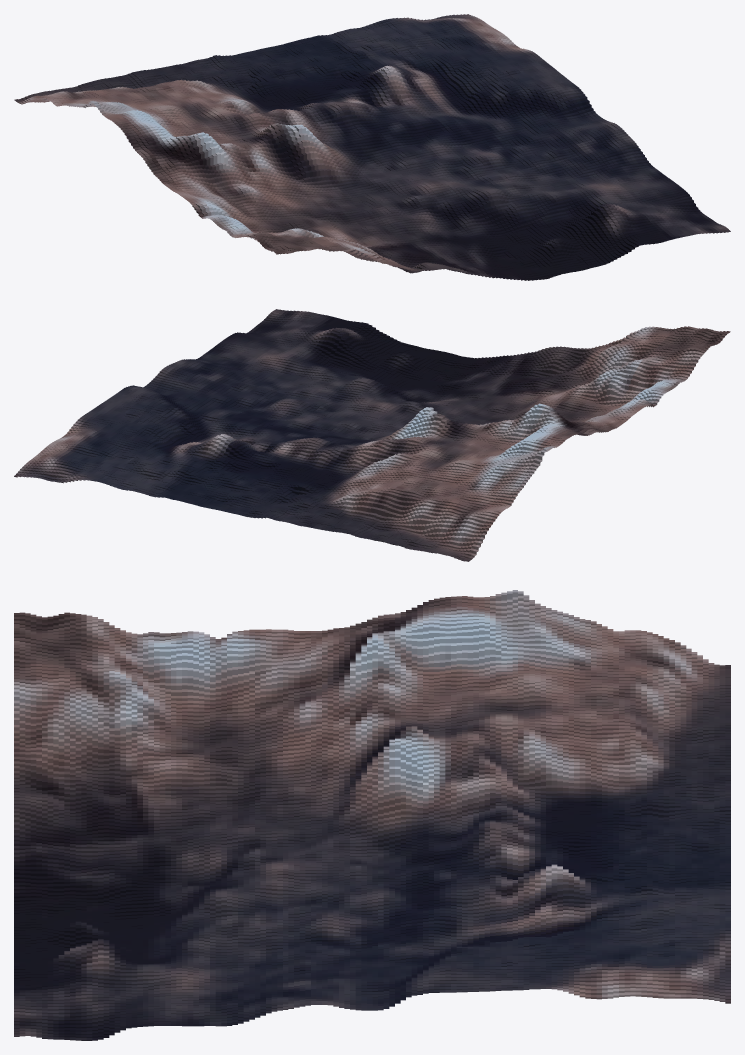
Rendered from chunk-24.glb.
3 views of the same model, one above another, from view 1: azimuth 30°, elevation 25°; view 2: azimuth 150°, elevation 25°; view 3: azimuth 270°, elevation 25° (orthographic). The views are drawn at different scales.
Visible parts, largest first — view 1: Mesh_0.040; view 2: Mesh_0.040; view 3: Mesh_0.040.
Part boxes in pixels (x1=…): Mesh_0.040: x1=14, y1=14, x2=730, y2=280; Mesh_0.040: x1=14, y1=309, x2=730, y2=561; Mesh_0.040: x1=14, y1=590, x2=730, y2=1040.
Size of the model in its own units: 32000 by 7296 by 32000.
